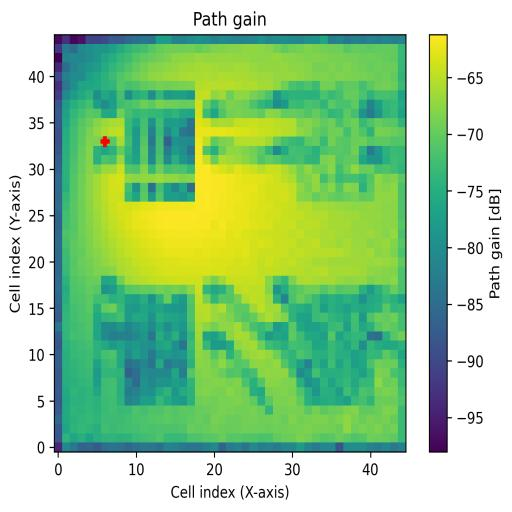Concrete: (297, 94, 376, 202)
Glass: (126, 91, 195, 202)
Metal: (288, 285, 374, 405)
Wood: (116, 285, 195, 407)
